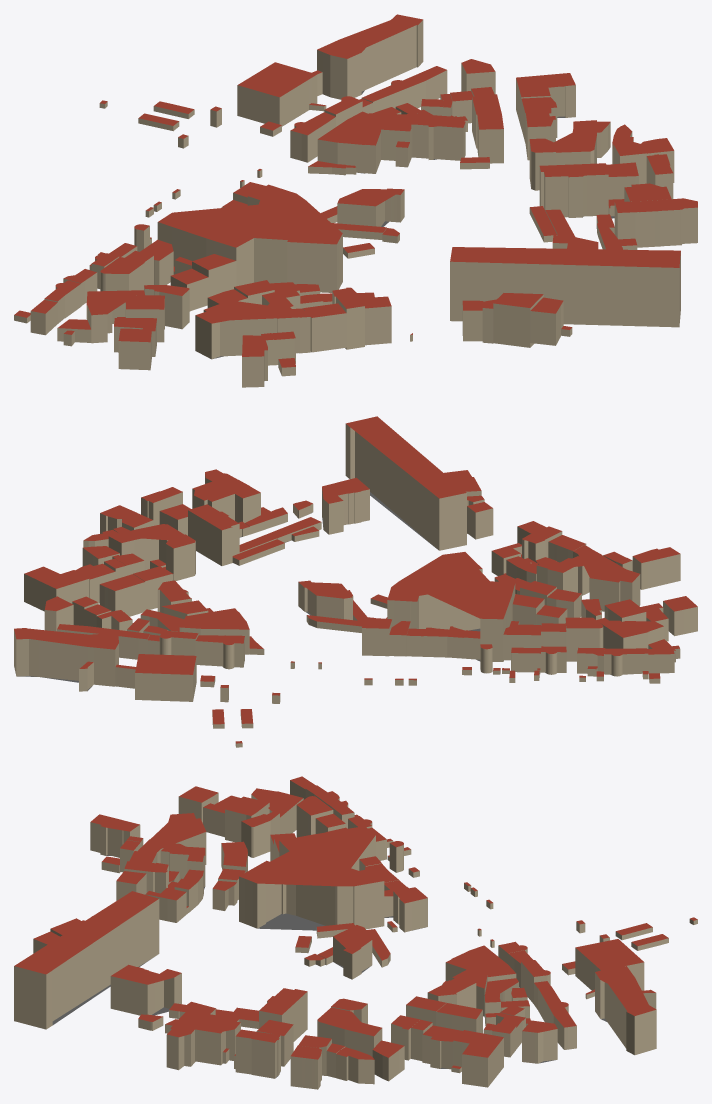
File: ingolstadt_150_lod1_buildings.obj
3 views of the same model, one above another, from view 1: azimuth 30°, elevation 25°; view 2: azimuth 150°, elevation 25°; view 3: azimuth 270°, elevation 25° (orthographic). The views are drawn at different scales.
Parts seen in each view (by area): view 1: bldg_DEBY_L2_4392457, bldg_DEBY_L2_4392429, bldg_DEBY_L2_4392664, bldg_DEBY_L2_4392422, bldg_DEBY_L2_4392673, bldg_DEBY_L2_4392859, bldg_DEBY_L2_4392490, bldg_DEBY_L2_4392874, bldg_DEBY_L2_4392491, bldg_DEBY_L2_107777145, bldg_DEBY_L2_4392452, bldg_DEBY_L2_4392420 (+41 smaller); view 2: bldg_DEBY_L2_4392457, bldg_DEBY_L2_4392429, bldg_DEBY_L2_4392664, bldg_DEBY_L2_4392673, bldg_DEBY_L2_4392422, bldg_DEBY_L2_4392490, bldg_DEBY_L2_4392460, bldg_DEBY_L2_4392528, bldg_DEBY_L2_4392495, bldg_DEBY_L2_107777145, bldg_DEBY_L2_4392420, bldg_DEBY_L2_4392374 (+46 smaller); view 3: bldg_DEBY_L2_4392429, bldg_DEBY_L2_4392457, bldg_DEBY_L2_4392664, bldg_DEBY_L2_4392460, bldg_DEBY_L2_4392528, bldg_DEBY_L2_4392673, bldg_DEBY_L2_104843101, bldg_DEBY_L2_4392495, bldg_DEBY_L2_104843099, bldg_DEBY_L2_4392859, bldg_DEBY_L2_4392422, bldg_DEBY_L2_107777145 (+35 smaller).
Boxes of the visible parts, x1,y1,x2,y2 form: bldg_DEBY_L2_4392457: (450, 247, 680, 327); bldg_DEBY_L2_4392429: (157, 184, 342, 292); bldg_DEBY_L2_4392664: (317, 14, 423, 99); bldg_DEBY_L2_4392422: (195, 300, 310, 359); bldg_DEBY_L2_4392673: (237, 62, 317, 126); bldg_DEBY_L2_4392859: (614, 198, 697, 247); bldg_DEBY_L2_4392490: (539, 163, 608, 217); bldg_DEBY_L2_4392874: (317, 111, 383, 173); bldg_DEBY_L2_4392491: (411, 114, 465, 160); bldg_DEBY_L2_107777145: (337, 188, 404, 226); bldg_DEBY_L2_4392452: (493, 293, 543, 347); bldg_DEBY_L2_4392420: (86, 290, 144, 343); bldg_DEBY_L2_4392457: (345, 416, 466, 550); bldg_DEBY_L2_4392429: (387, 552, 515, 661); bldg_DEBY_L2_4392664: (14, 628, 118, 686); bldg_DEBY_L2_4392673: (135, 654, 196, 701); bldg_DEBY_L2_4392422: (573, 545, 640, 611); bldg_DEBY_L2_4392490: (188, 504, 239, 565); bldg_DEBY_L2_4392460: (322, 477, 369, 534); bldg_DEBY_L2_4392528: (24, 566, 89, 611); bldg_DEBY_L2_4392495: (108, 524, 183, 570); bldg_DEBY_L2_107777145: (298, 580, 352, 619); bldg_DEBY_L2_4392420: (597, 618, 664, 648); bldg_DEBY_L2_4392374: (632, 547, 680, 589); bldg_DEBY_L2_4392429: (239, 826, 384, 930); bldg_DEBY_L2_4392457: (14, 891, 159, 1029); bldg_DEBY_L2_4392664: (595, 966, 656, 1055); bldg_DEBY_L2_4392460: (110, 964, 181, 1015); bldg_DEBY_L2_4392528: (453, 1030, 503, 1087); bldg_DEBY_L2_4392673: (575, 939, 644, 990); bldg_DEBY_L2_104843101: (235, 1029, 280, 1078); bldg_DEBY_L2_4392495: (317, 1007, 382, 1056); bldg_DEBY_L2_104843099: (195, 1014, 240, 1065); bldg_DEBY_L2_4392859: (166, 1005, 215, 1070); bldg_DEBY_L2_4392422: (138, 813, 206, 864); bldg_DEBY_L2_107777145: (333, 925, 372, 979).
Bounding box in the file's own units: 305 × 28.51 × 302.
